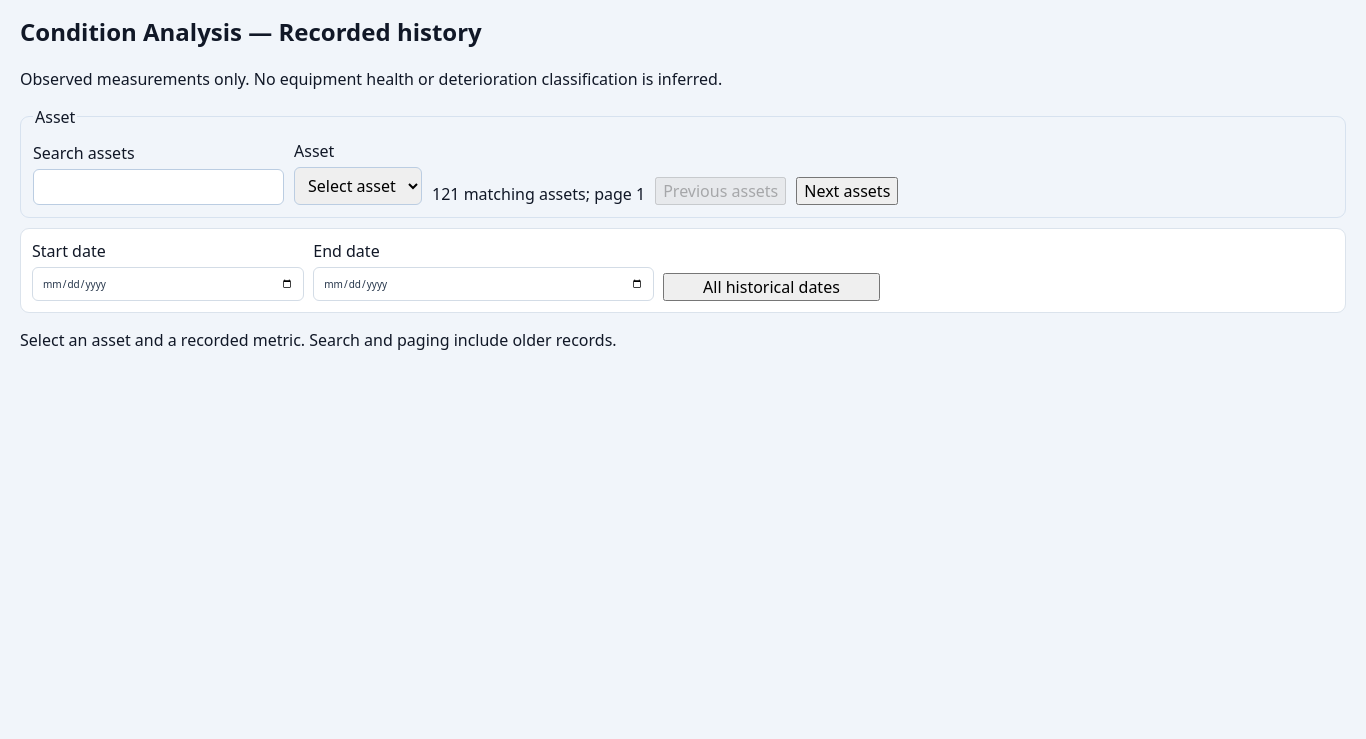
Scenario: shows a retryable history error without hiding discovery controls
Select "FIX-1" in the dropdown named "Trend asset" at (358, 186), box [294,167,422,205]
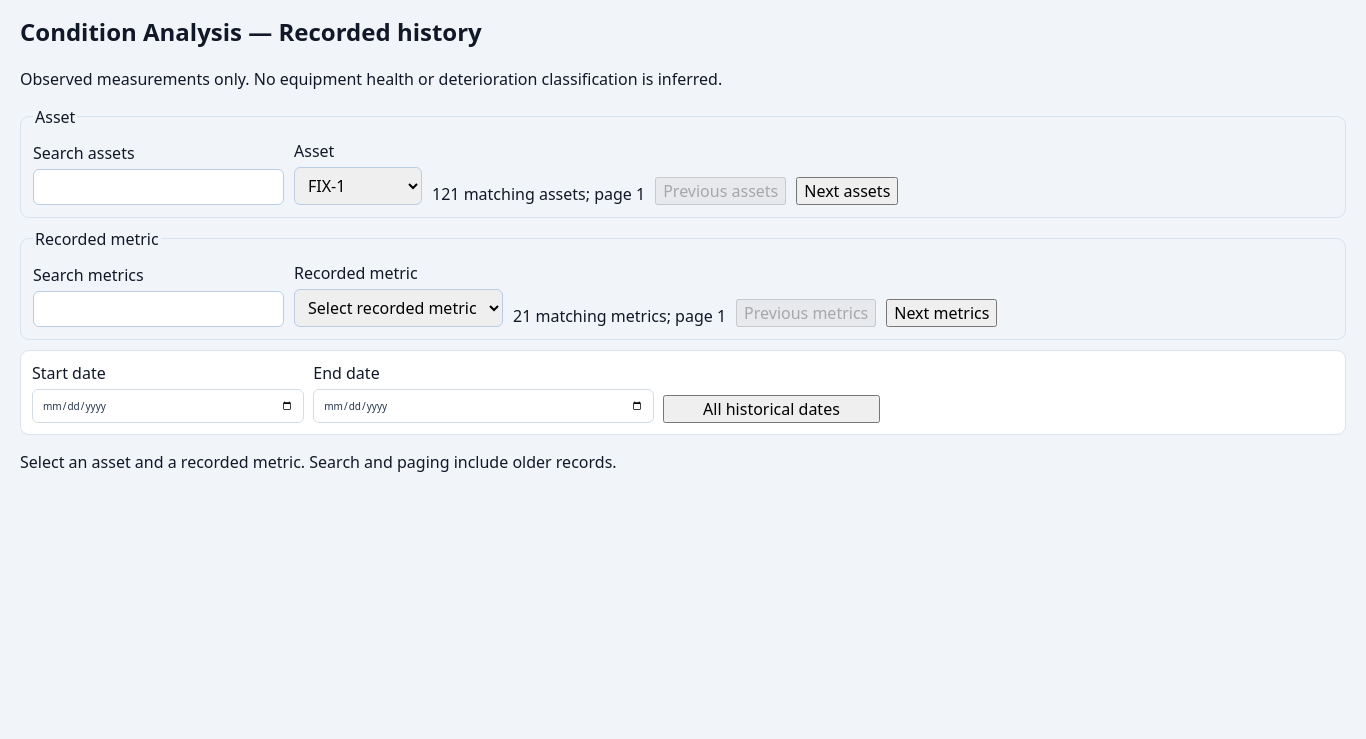
Select "old-only (51 records)" in the dropdown named "Recorded measurement metric" at (398, 308), box [294,289,503,327]
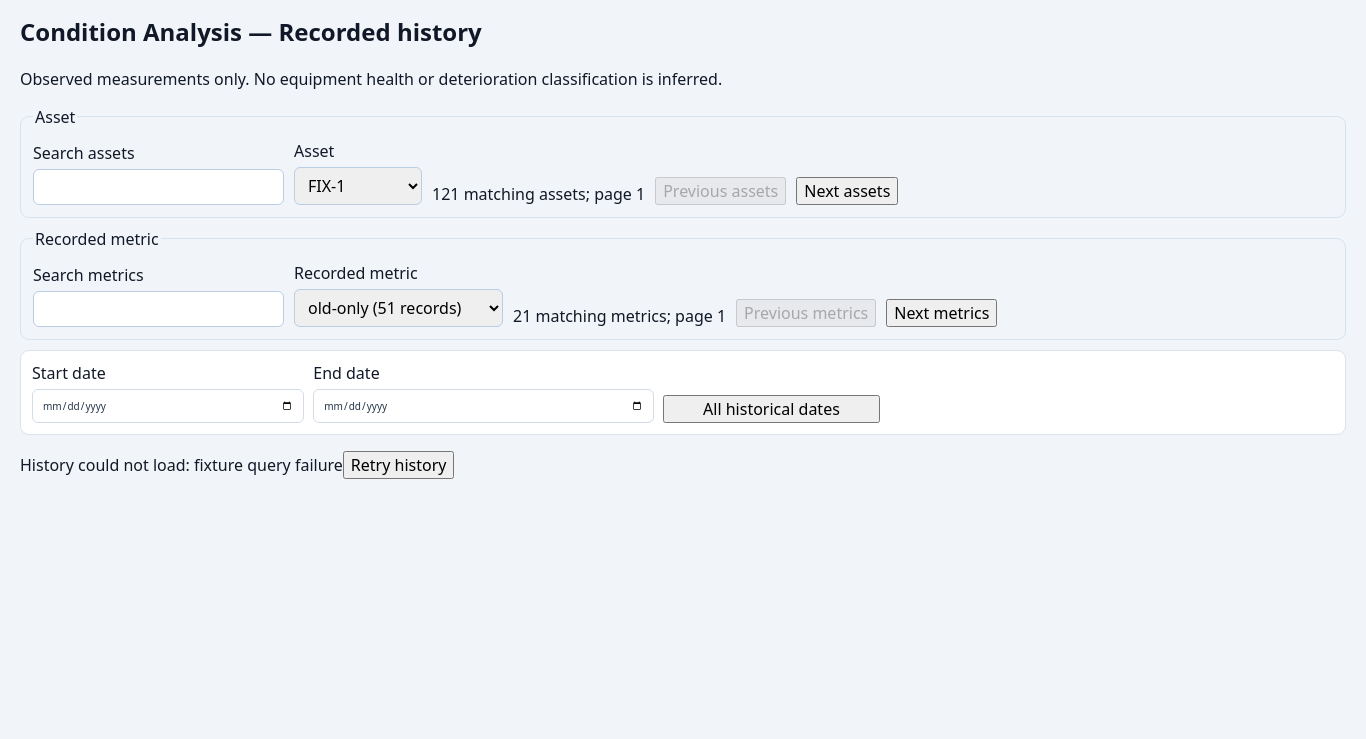
Now the message "History could not load: fixture query failure Retry history" is shown, box [20,451,454,479]
Click the button "Retry history" at (399, 465), box [343,451,454,479]
(page scrolled)
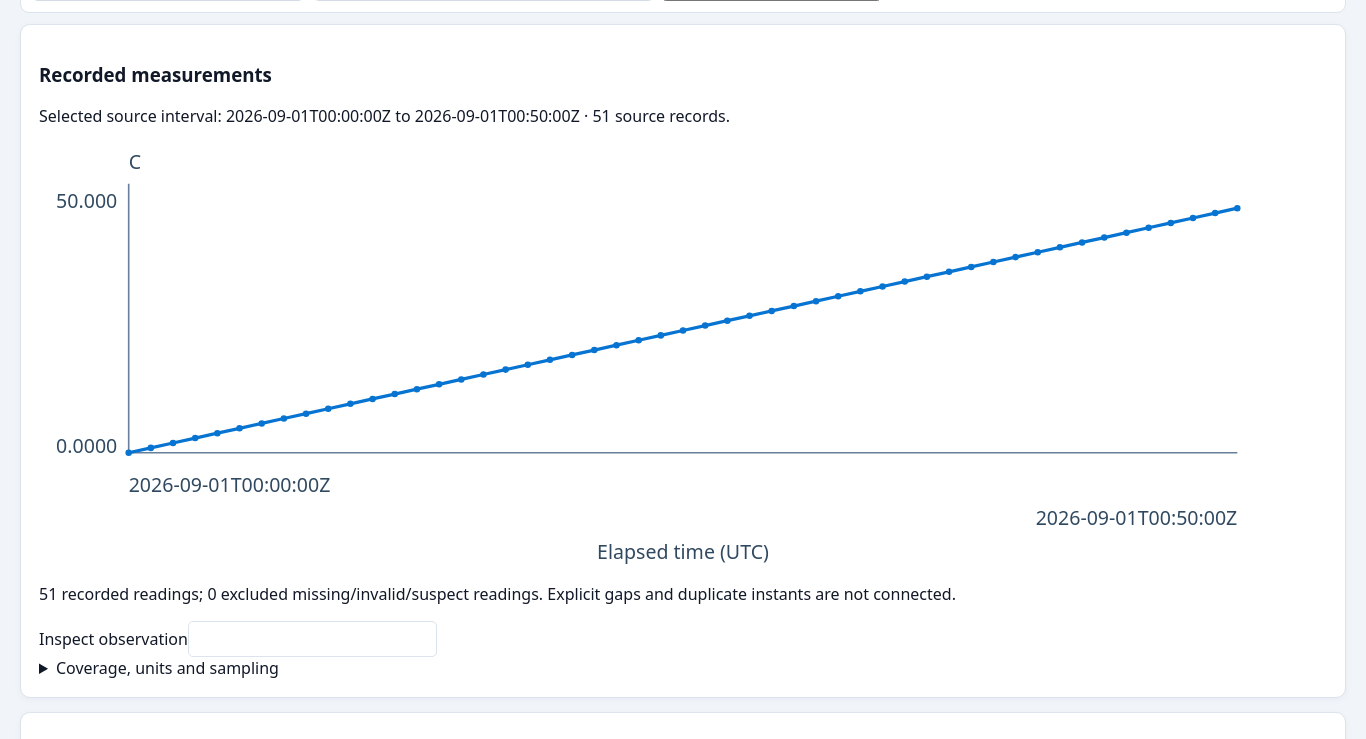
Now the picture is shown, box [39,143,1327,567]
